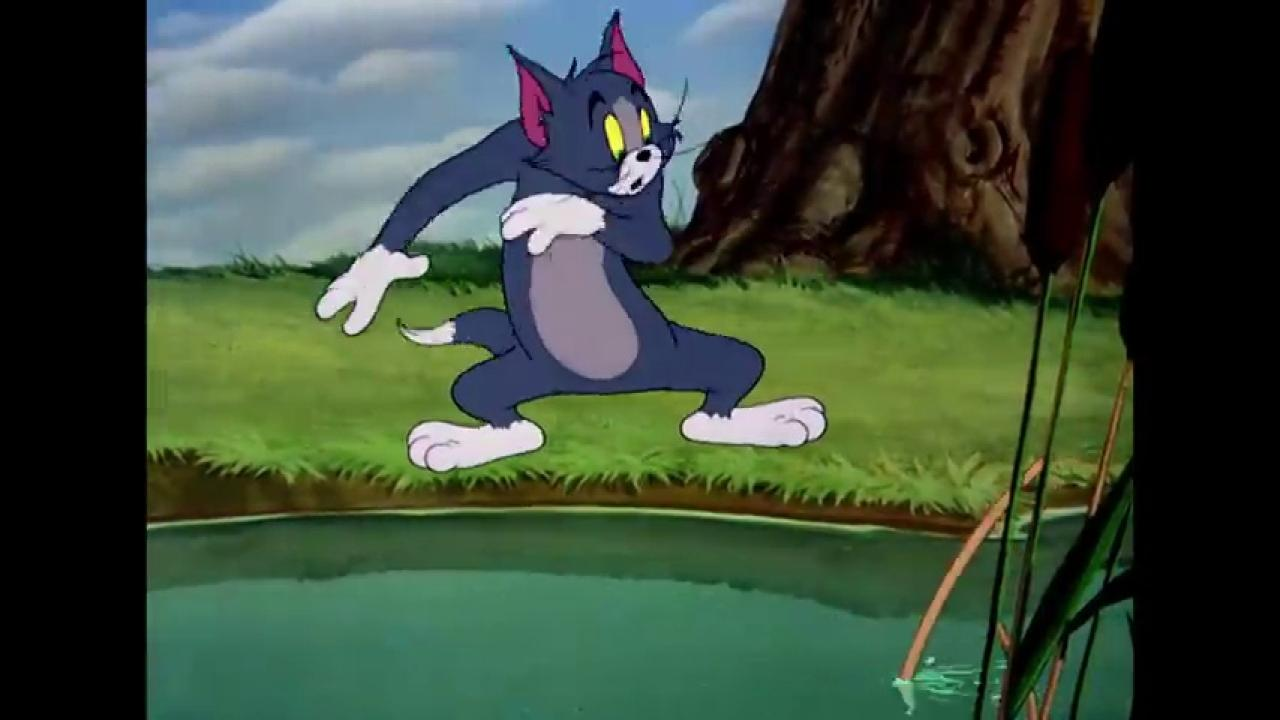Tom: (313, 7, 829, 473)
